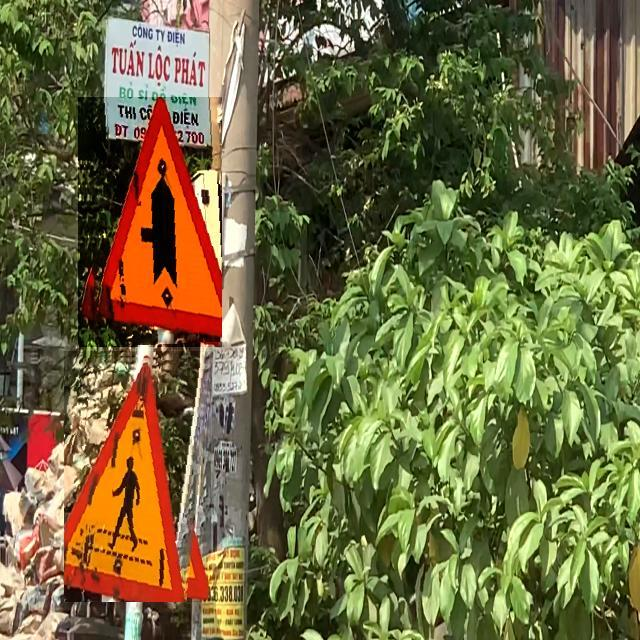W-207c: (78, 97, 222, 347)
W-224: (64, 351, 211, 602)
